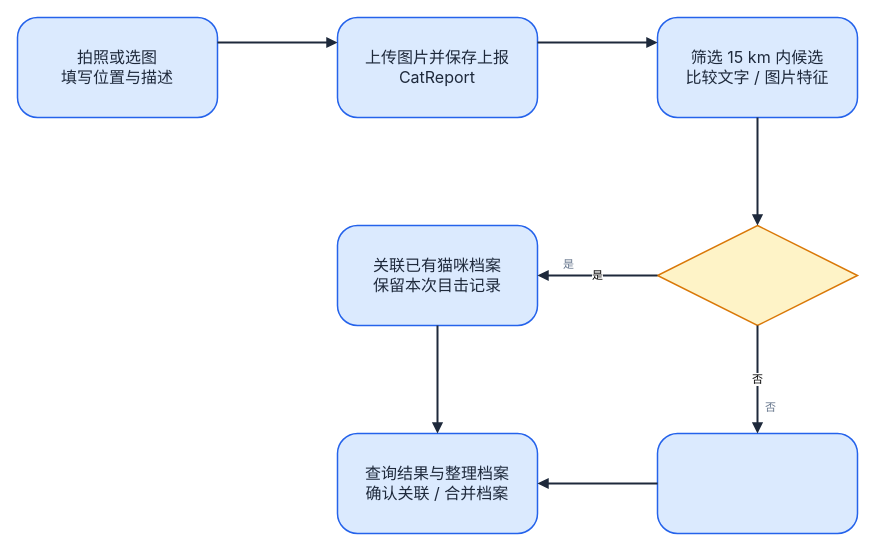
The diagram is 876 pixels wide and 552 high, and some of its shapes have lost their labels. Each missing label, with the box of its shape:
创建新的猫咪档案 关联本次上报: (656, 432, 858, 534)
找到达标 候选？: (656, 224, 858, 326)
